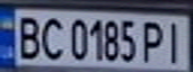0: (66, 15, 87, 61)
1: (84, 16, 106, 62)
5: (118, 17, 142, 63)
8: (103, 16, 124, 62)
B: (12, 12, 45, 61)
C: (36, 14, 66, 61)
I: (160, 18, 190, 64)
P: (139, 18, 169, 64)
